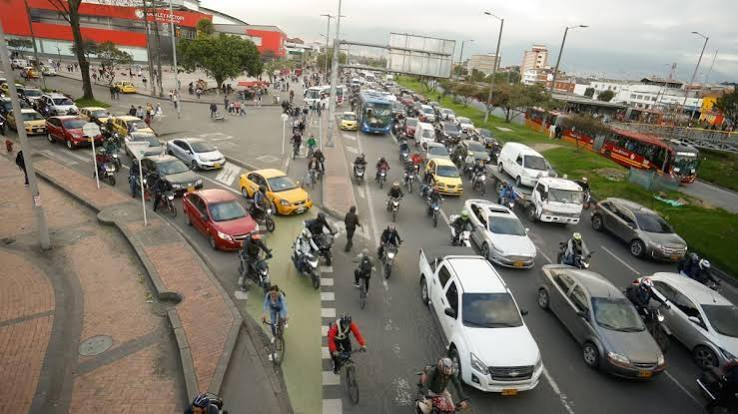car: (81, 52, 738, 352), (98, 72, 651, 283), (425, 257, 545, 390), (547, 267, 668, 380), (641, 278, 738, 398), (537, 114, 694, 182), (541, 262, 648, 353), (159, 161, 266, 245), (648, 264, 738, 350), (587, 199, 685, 267), (561, 121, 674, 176), (178, 184, 263, 253), (506, 157, 583, 224), (124, 135, 193, 203), (144, 143, 208, 204), (472, 213, 539, 271), (598, 129, 678, 174), (498, 146, 552, 211), (678, 248, 736, 306), (502, 155, 551, 219), (135, 149, 188, 208), (151, 138, 216, 186), (527, 176, 588, 227), (497, 145, 550, 201), (244, 171, 303, 217), (148, 159, 199, 211), (257, 176, 314, 219), (166, 138, 227, 178), (39, 111, 99, 148), (294, 226, 328, 281)
